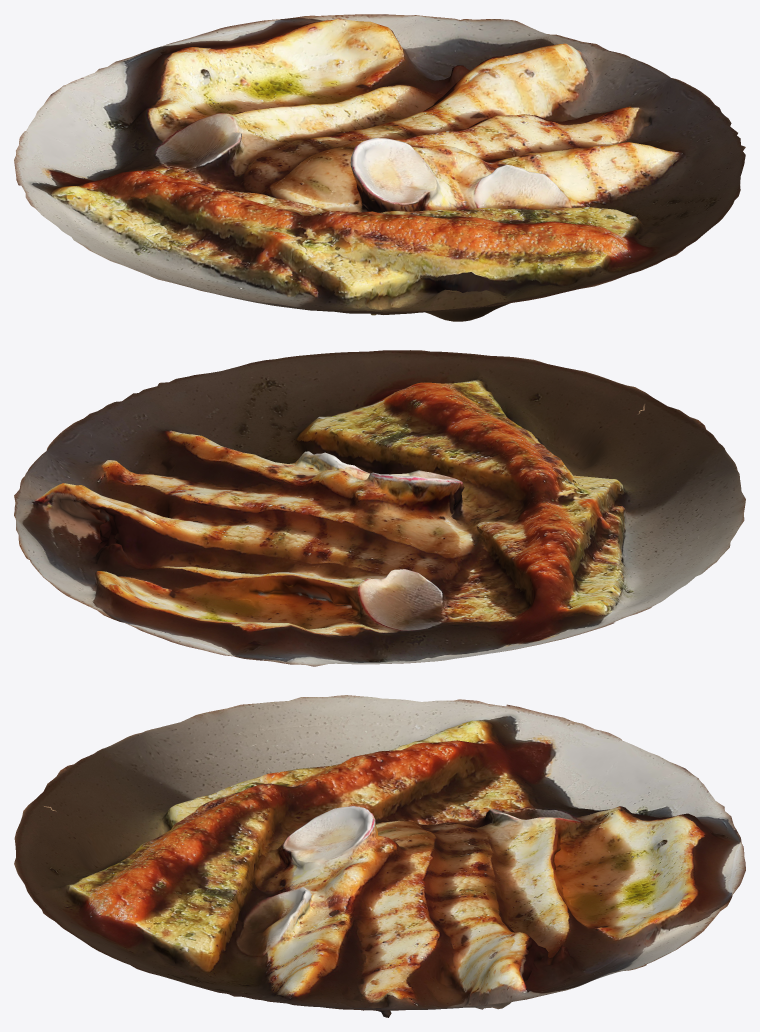
The model's file is tavuk.glb.
The picture shows the model from 3 angles, top to bottom: view 1: azimuth 30°, elevation 25°; view 2: azimuth 150°, elevation 25°; view 3: azimuth 270°, elevation 25°; orthographic projection.
Visible parts, largest first — view 1: tavuk v1; view 2: tavuk v1; view 3: tavuk v1.
Boxes of the visible parts, x1,y1,x2,y2 form: tavuk v1: (14,14,745,321); tavuk v1: (14,350,745,666); tavuk v1: (14,695,745,1017).
Size of the model in its own units: 0.1107 by 0.0136 by 0.1118.
1 material, 1 textured.
